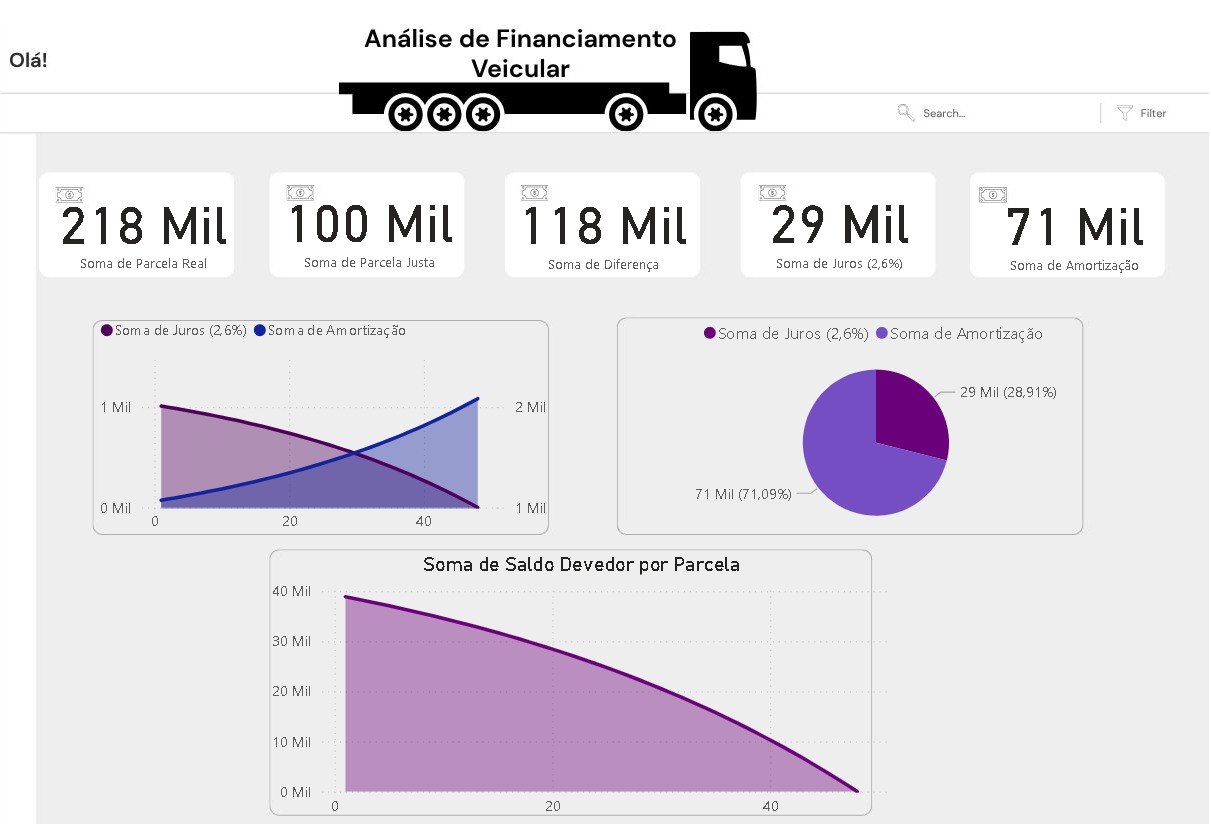

Layout of this report page (visuals, bound fields, positions):
{"tool":"powerbi","page":{"name":"DASHBOARD","canvas":[1280,720],"ordinal":0},"visuals":[{"type":"card","fields":{"Values":["Sum(Contrato Real.Parcela Real)"]},"box":[204,153.4,183.8,84.3],"z":0},{"type":"card","fields":{"Values":["Sum(Contrato Real.Parcela Justa)"]},"box":[392.9,150.1,186.3,87.7],"z":1000},{"type":"card","fields":{"Values":["Sum(Contrato Real.Juros (2,6%))"]},"box":[778.2,144.2,209.1,102],"z":2000},{"type":"card","fields":{"Values":["Sum(Contrato Real.Amortização)"]},"box":[978.8,145.9,203.2,101.2],"z":3000},{"type":"card","fields":{"Values":["Sum(Contrato Real.Diferença)"]},"box":[579.2,144.2,208.2,102.9],"z":4000},{"type":"areaChart","fields":{"Category":["Contrato Real.Parcela"],"Y":["Sum(Contrato Real.Juros (2,6%))"],"Y2":["Sum(Contrato Real.Amortização)"]},"box":[253.8,263,386.1,198.1],"z":5000},{"type":"areaChart","fields":{"Category":["Contrato Real.Parcela"],"Y":["Sum(Contrato Real.Saldo Devedor)"]},"box":[399.6,469.6,531.1,231],"z":6000},{"type":"pieChart","fields":{"Y":["Sum(Contrato Real.Juros (2,6%))","Sum(Contrato Real.Amortização)"]},"box":[703.7,264.8,418,196.8],"z":7000}]}

Visuals, with their boxes on the page's 1280x720 design canvas (x1, y1, x2, y2). These are canvas units, not pixel positions in the 1211x829 screenshot, which may show the page scaled, cropped or inside an application window:
card - Sum(Contrato Real.Parcela Real): box=[204, 153, 388, 238]
card - Sum(Contrato Real.Parcela Justa): box=[393, 150, 579, 238]
card - Sum(Contrato Real.Juros (2,6%)): box=[778, 144, 987, 246]
card - Sum(Contrato Real.Amortização): box=[979, 146, 1182, 247]
card - Sum(Contrato Real.Diferença): box=[579, 144, 787, 247]
areaChart - Contrato Real.Parcela x Sum(Contrato Real.Juros (2,6%)): box=[254, 263, 640, 461]
areaChart - Contrato Real.Parcela x Sum(Contrato Real.Saldo Devedor): box=[400, 470, 931, 701]
pieChart - Sum(Contrato Real.Juros (2,6%)) x Sum(Contrato Real.Amortização): box=[704, 265, 1122, 462]
